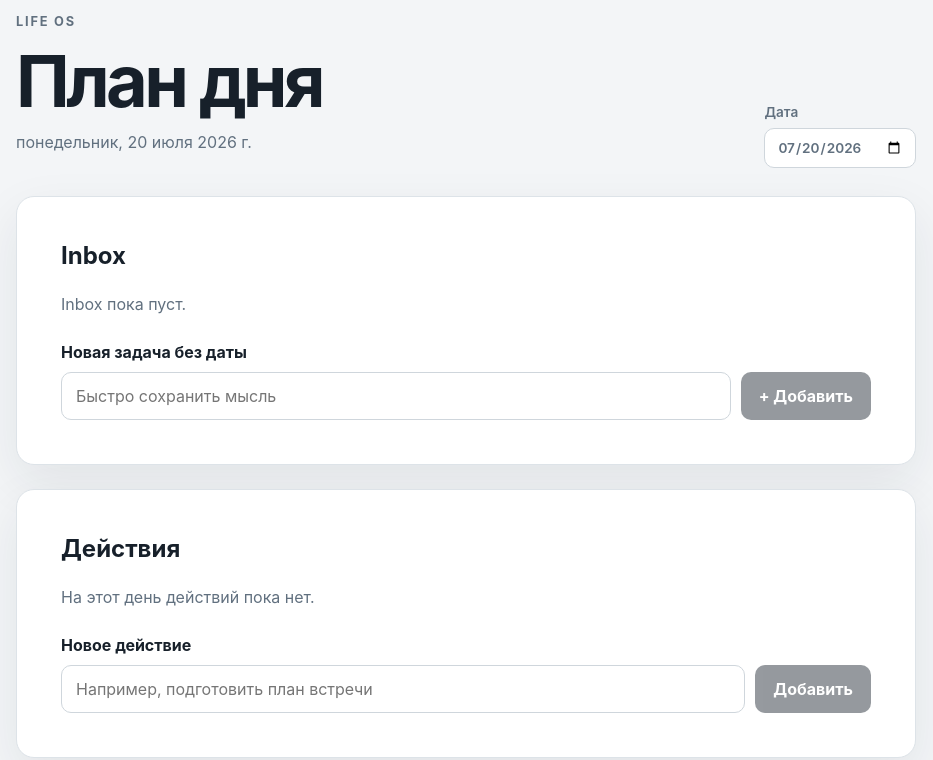
App › adds and deletes an Inbox item
Expected: the text "Inbox пока пуст." is shown, [61,294,186,314]
In the field labelled "Новая задача без даты": (396, 396) [61,372,731,420], type "Позвонить"
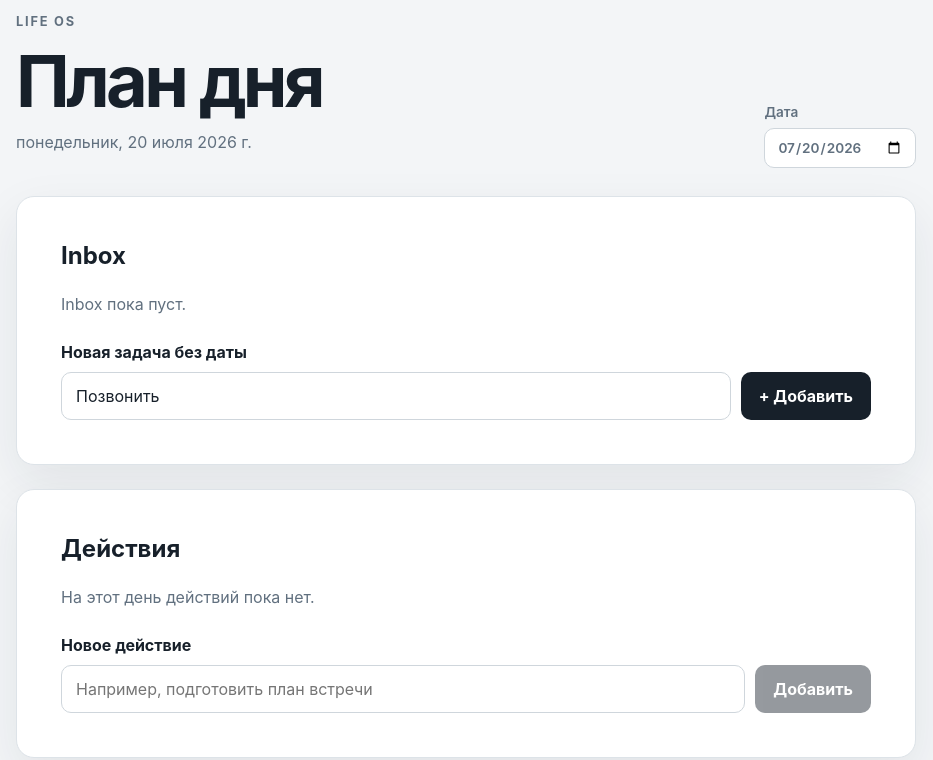
Click the button "+ Добавить": click(806, 396) [741,372,871,420]
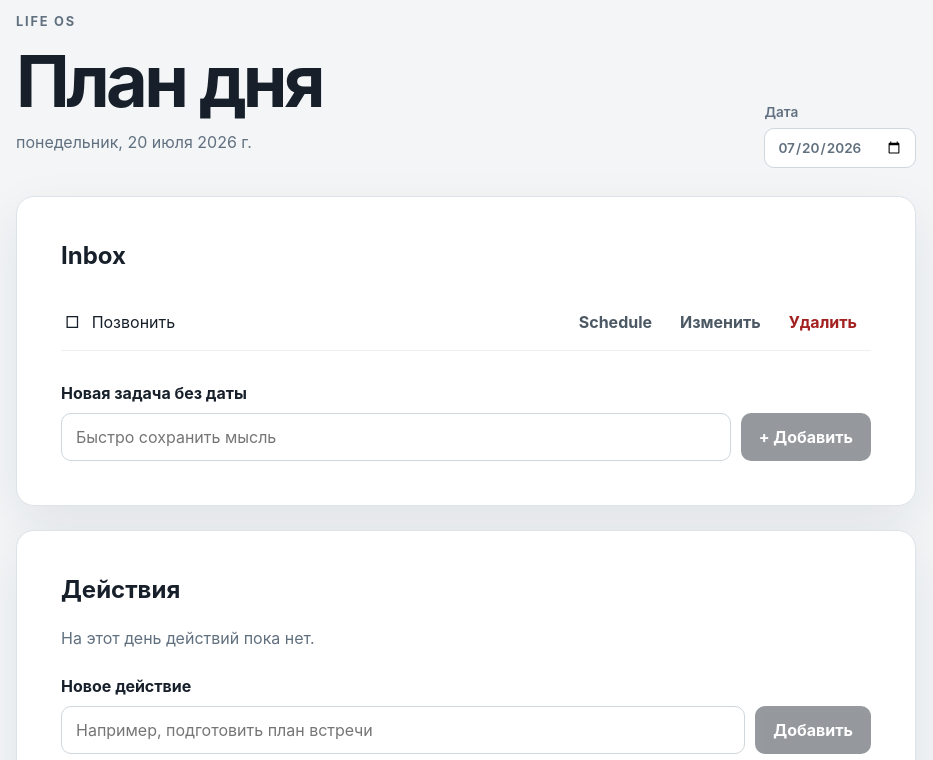
Expected: the text "Позвонить" is shown, [92,312,175,332]
Click the button "Удалить": click(823, 322) [779,304,867,340]
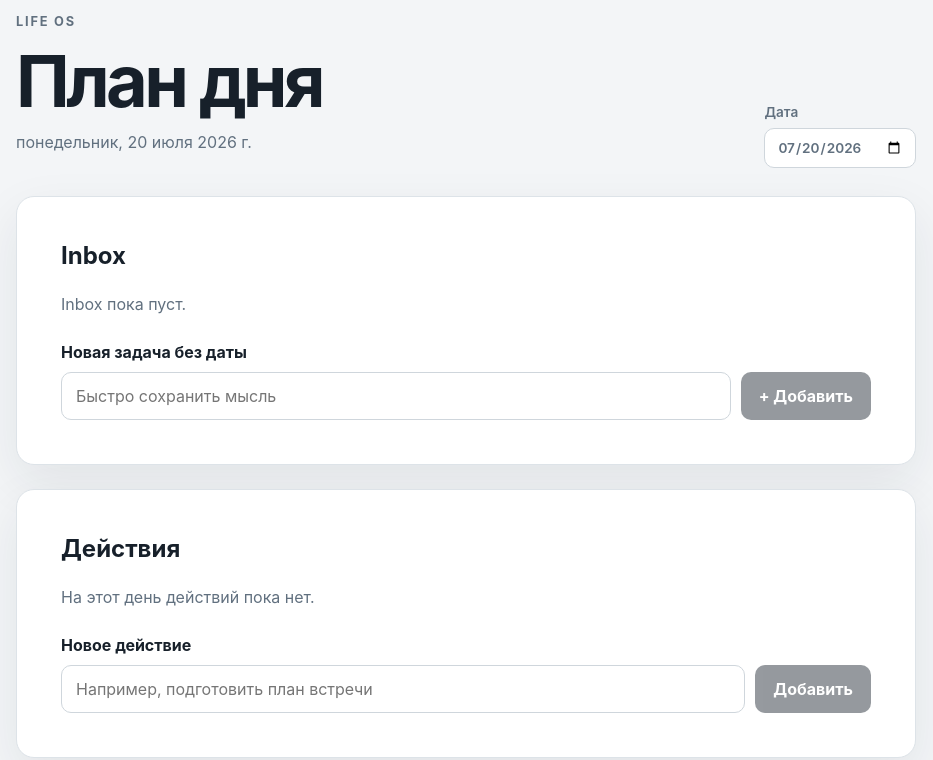
Expected: the text "Inbox пока пуст." is shown, [61,294,186,314]
